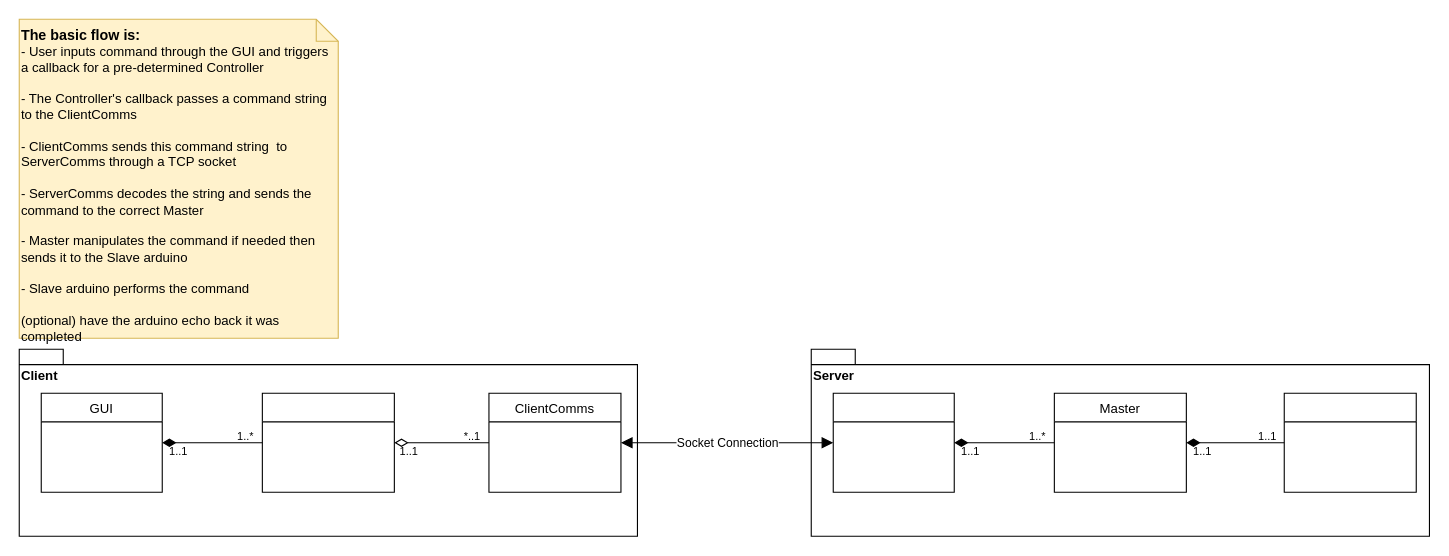
This 1449x556 diagram has some shape labels left out. The box of each missing label's shape, as (x1, y1, x2, y2) in pixels:
Controller: (261, 392, 394, 492)
ServerComms: (832, 392, 954, 492)
Slave: (1283, 392, 1416, 492)
